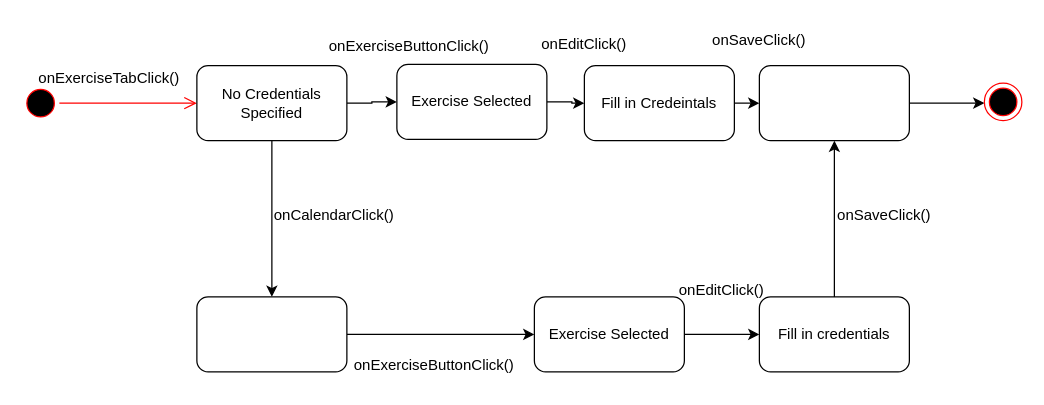
Some shapes in this 1044 by 405 pixel diagram are drawn without their labels. Each missing label, with the centre of its shape:
Credentials Updated: [833,102]
Date Selected: [271,334]
